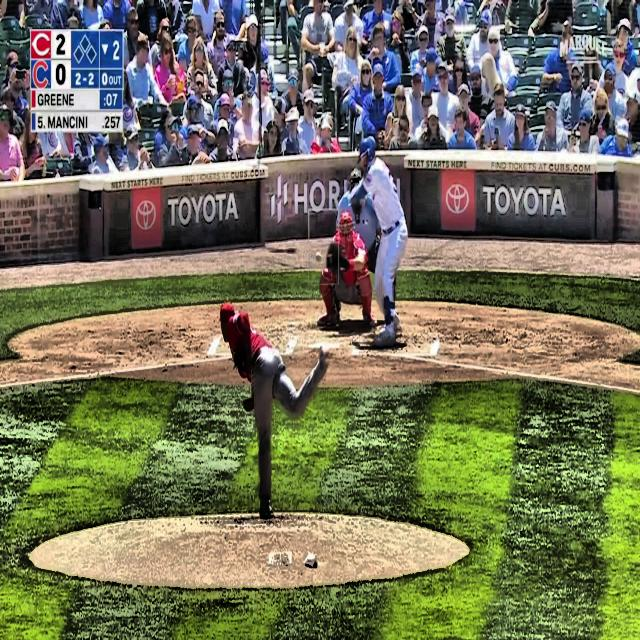baseball: (315, 251, 321, 262)
